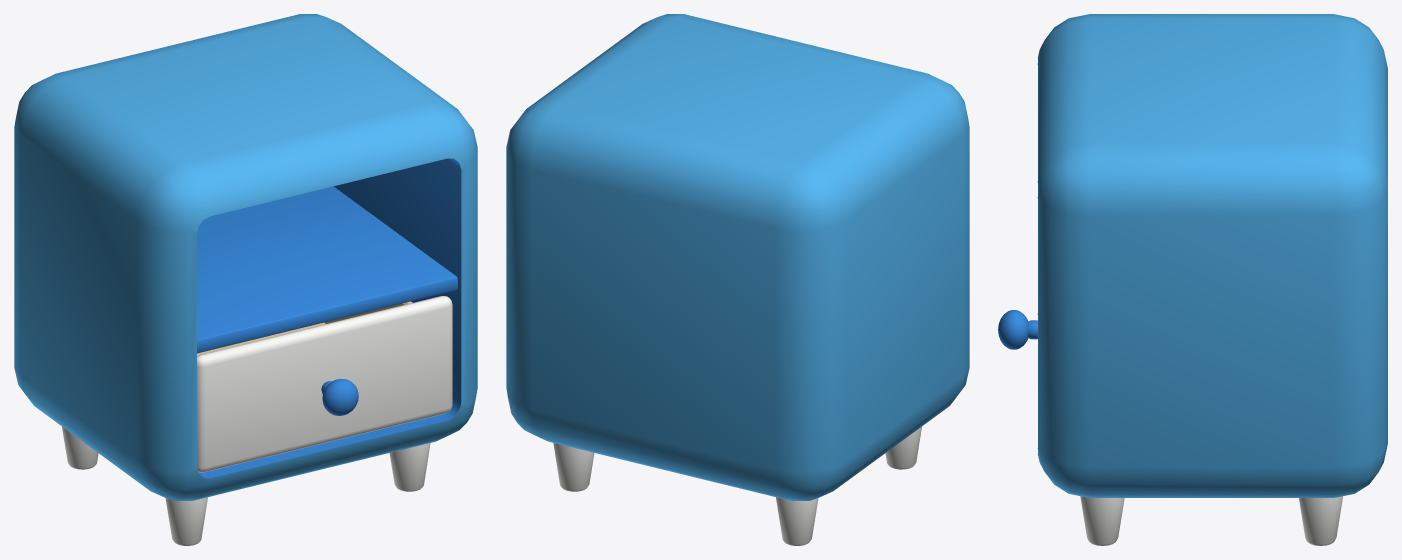
The model's file is criado_cubo_nicho_azul.glb.
3 renders of one model, left to right at view 1: azimuth 30°, elevation 25°; view 2: azimuth 150°, elevation 25°; view 3: azimuth 270°, elevation 25°, orthographic. The views are drawn at different scales.
Visible parts, largest first — view 1: criado_cubo_nicho_azul, gaveta_1; view 2: criado_cubo_nicho_azul; view 3: criado_cubo_nicho_azul, gaveta_1.
Boxes of the visible parts, x1,y1,x2,y2 form: criado_cubo_nicho_azul: (14, 14, 477, 545); gaveta_1: (197, 296, 452, 472); criado_cubo_nicho_azul: (506, 14, 969, 545); criado_cubo_nicho_azul: (1037, 14, 1387, 545); gaveta_1: (998, 310, 1037, 349).
Size of the model in its own units: 0.48 by 0.53 by 0.4646.
1 material, 1 textured.
